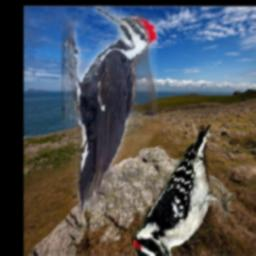Woodpecker: (61, 6, 158, 211), (132, 125, 245, 256)
